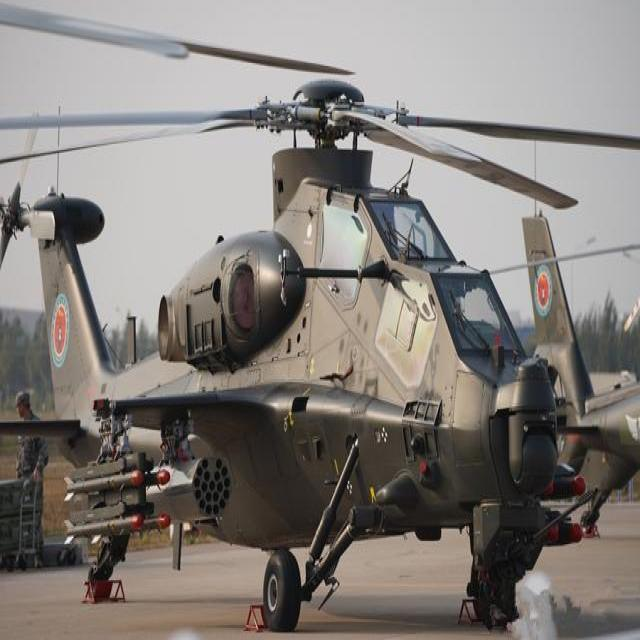MIL_HELO: (1, 74, 640, 633)
